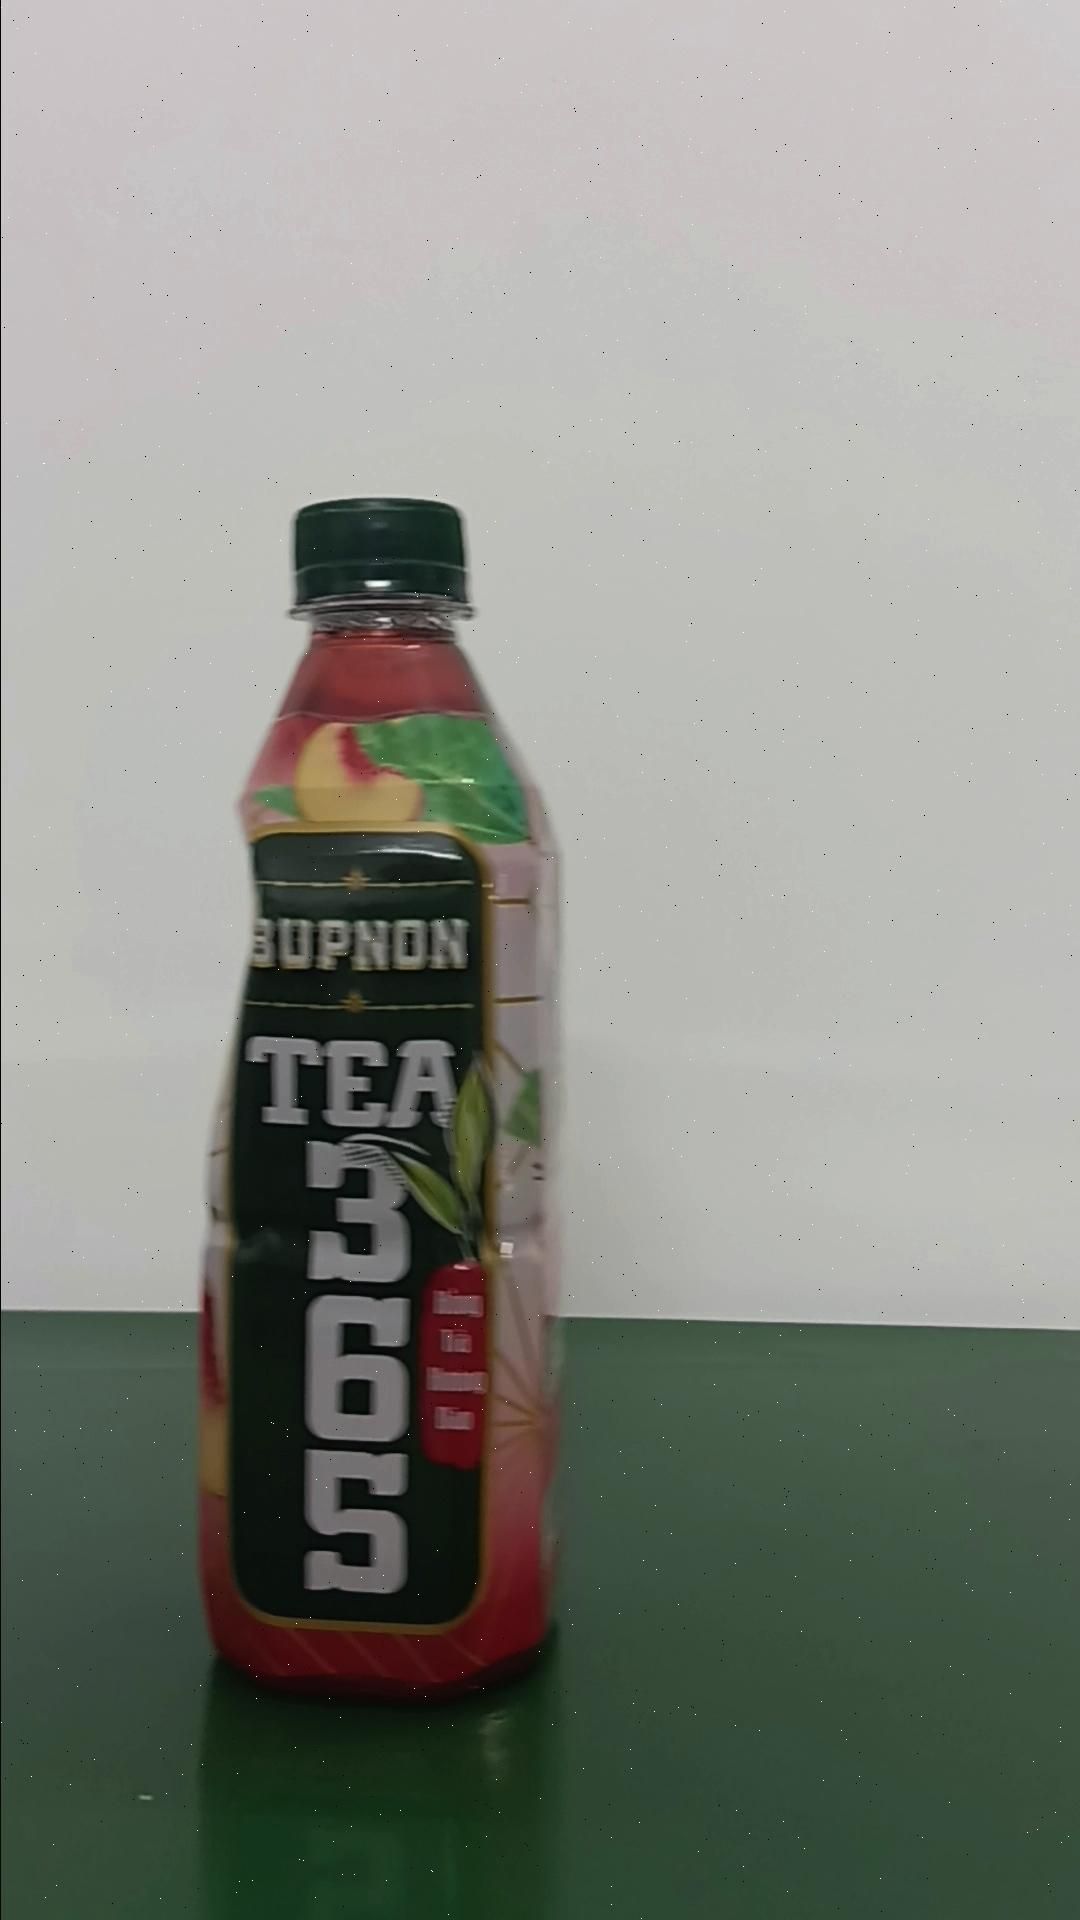loi meo sp: (193, 493, 566, 1702)
